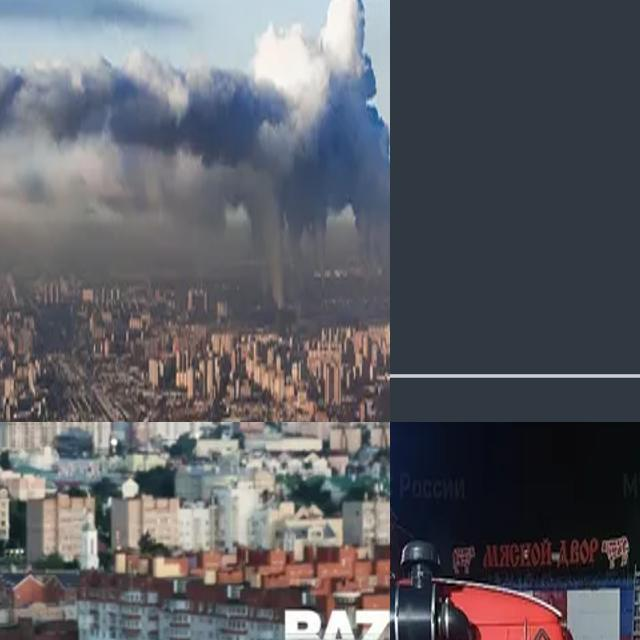smoke: (53, 10, 390, 300)
